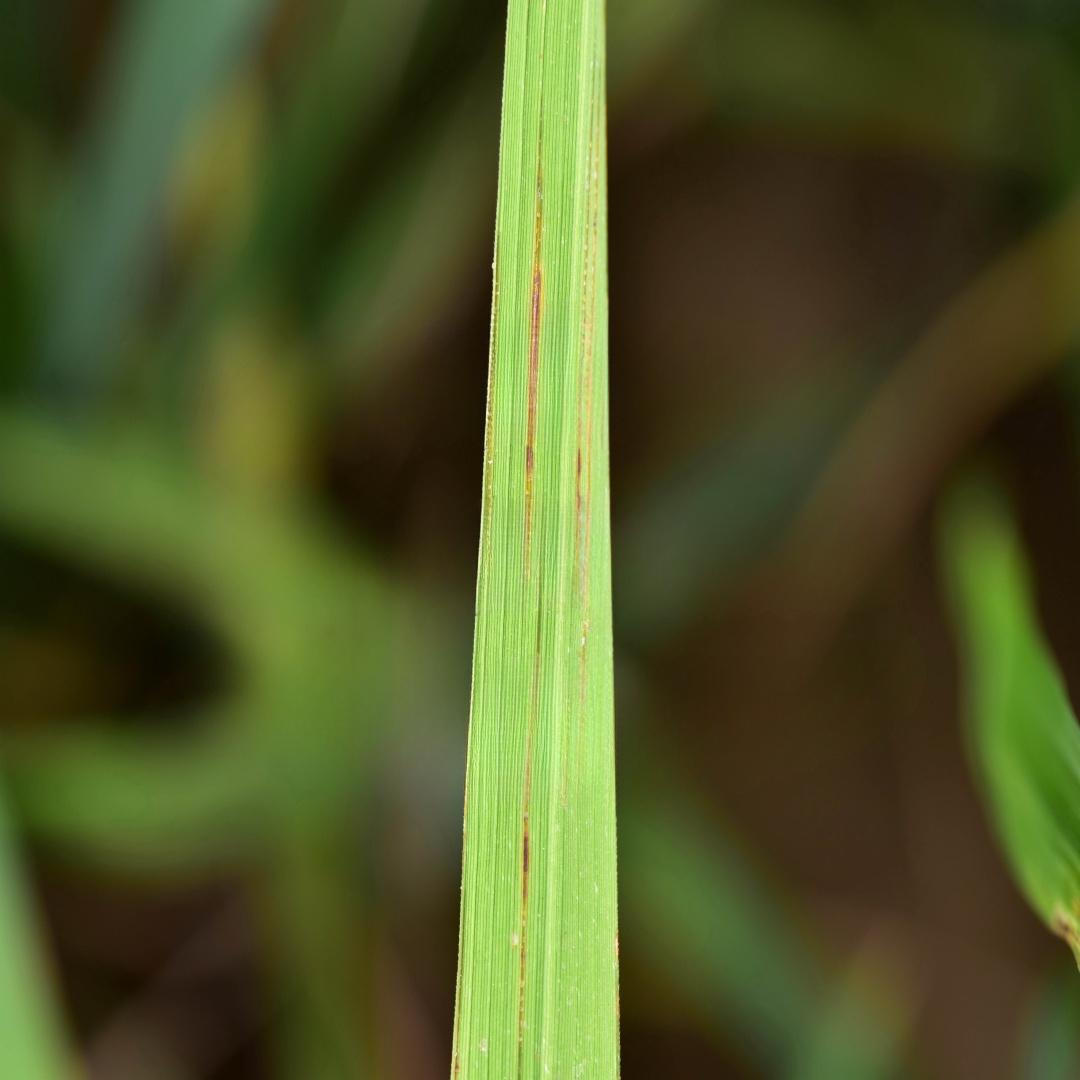BLS: (577, 58, 600, 736), (570, 38, 593, 599), (518, 577, 542, 1078), (524, 97, 543, 585), (483, 231, 500, 592)
LEAF: (452, 0, 618, 1079)
